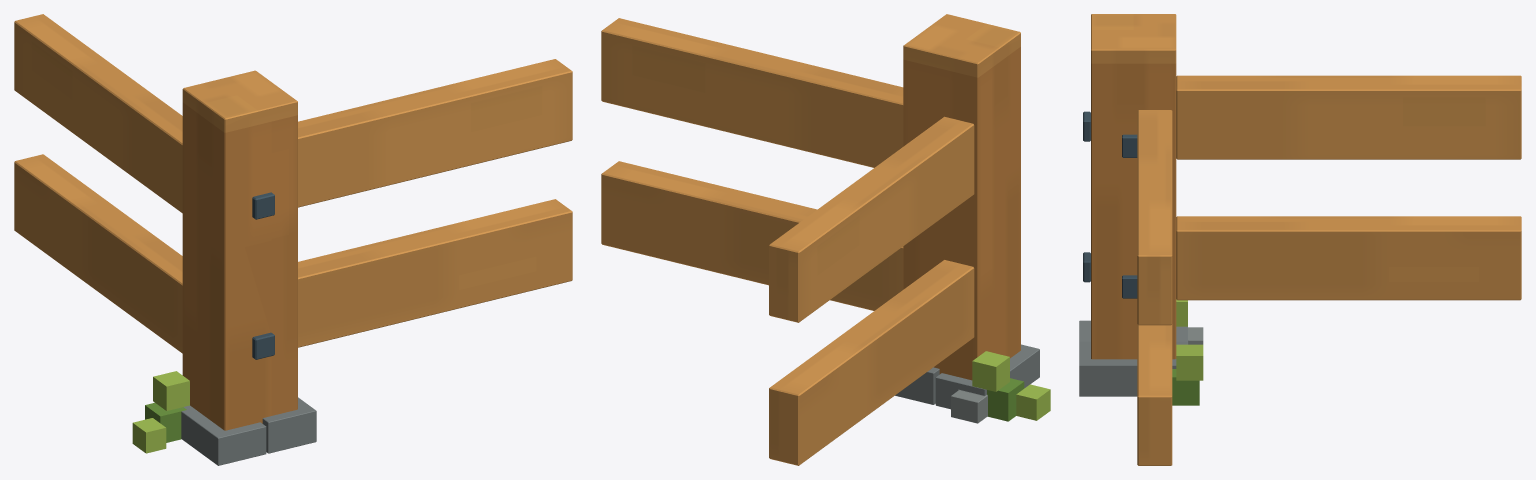
The model's file is SM_VMF_Fence_Low_Corner.fbx.
3 renders of one model, left to right at view 1: azimuth 30°, elevation 25°; view 2: azimuth 150°, elevation 25°; view 3: azimuth 270°, elevation 25°, orthographic. The views are drawn at different scales.
Visible parts, largest first — view 1: SM_VMF_Fence_Low_Corner_SpanX_Rails, SM_VMF_Fence_Low_Corner_Post_Post, SM_VMF_Fence_Low_Corner_SpanY_Rails, SM_VMF_Fence_Low_Corner_Post_Foot_Stones, SM_VMF_Fence_Low_Corner_Post_Grass_Blocks; view 2: SM_VMF_Fence_Low_Corner_SpanX_Rails, SM_VMF_Fence_Low_Corner_SpanY_Rails, SM_VMF_Fence_Low_Corner_Post_Post, SM_VMF_Fence_Low_Corner_Post_Foot_Stones, SM_VMF_Fence_Low_Corner_Post_Grass_Blocks; view 3: SM_VMF_Fence_Low_Corner_SpanY_Rails, SM_VMF_Fence_Low_Corner_Post_Post, SM_VMF_Fence_Low_Corner_SpanX_Rails, SM_VMF_Fence_Low_Corner_Post_Foot_Stones, SM_VMF_Fence_Low_Corner_Post_Grass_Blocks.
Boxes of the visible parts, <box> form: SM_VMF_Fence_Low_Corner_SpanX_Rails: <box>298,59,572,347</box>; SM_VMF_Fence_Low_Corner_Post_Post: <box>182,70,297,430</box>; SM_VMF_Fence_Low_Corner_SpanY_Rails: <box>14,14,182,353</box>; SM_VMF_Fence_Low_Corner_Post_Foot_Stones: <box>181,397,316,465</box>; SM_VMF_Fence_Low_Corner_Post_Grass_Blocks: <box>132,371,189,453</box>; SM_VMF_Fence_Low_Corner_SpanX_Rails: <box>601,18,903,310</box>; SM_VMF_Fence_Low_Corner_SpanY_Rails: <box>769,116,974,465</box>; SM_VMF_Fence_Low_Corner_Post_Post: <box>903,14,1020,380</box>; SM_VMF_Fence_Low_Corner_Post_Foot_Stones: <box>895,344,1039,423</box>; SM_VMF_Fence_Low_Corner_Post_Grass_Blocks: <box>972,351,1050,421</box>; SM_VMF_Fence_Low_Corner_SpanY_Rails: <box>1176,75,1521,300</box>; SM_VMF_Fence_Low_Corner_Post_Post: <box>1091,14,1176,359</box>; SM_VMF_Fence_Low_Corner_SpanX_Rails: <box>1137,110,1172,465</box>; SM_VMF_Fence_Low_Corner_Post_Foot_Stones: <box>1079,320,1203,396</box>; SM_VMF_Fence_Low_Corner_Post_Grass_Blocks: <box>1172,299,1203,405</box>.
Size of the model in its own units: 127 by 97 by 114.
1 material, 1 textured.
